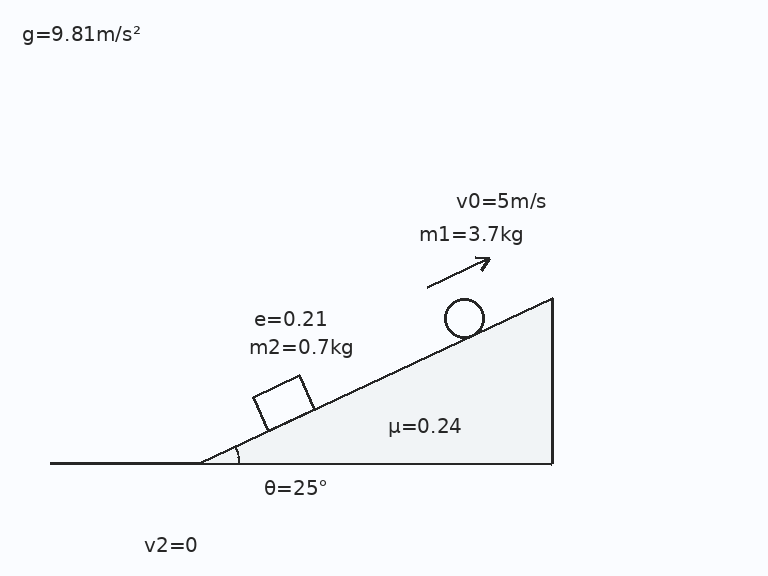ball: (442, 296, 486, 340)
block: (251, 373, 317, 433)
ramp: (197, 297, 554, 465)
